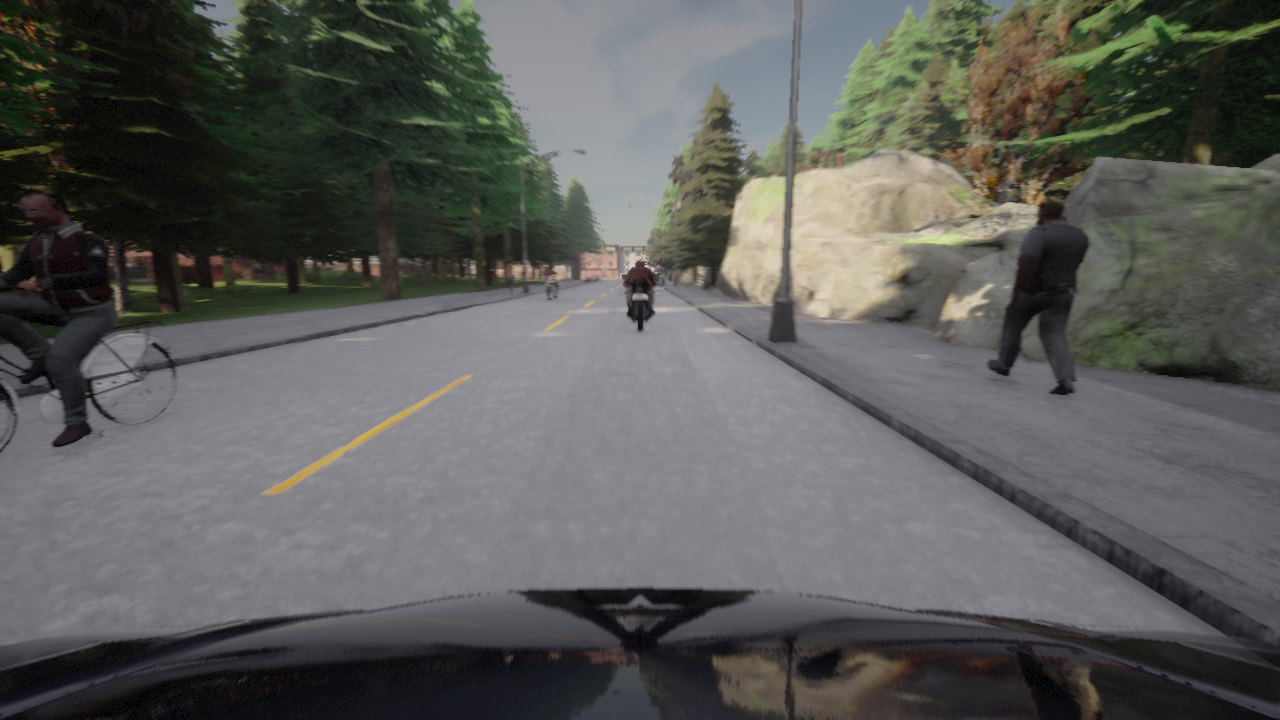cyclist: (0, 588, 1279, 719), (0, 286, 176, 454), (622, 274, 657, 330), (543, 272, 558, 300)
pedestrian: (988, 198, 1089, 395), (504, 260, 515, 293)
